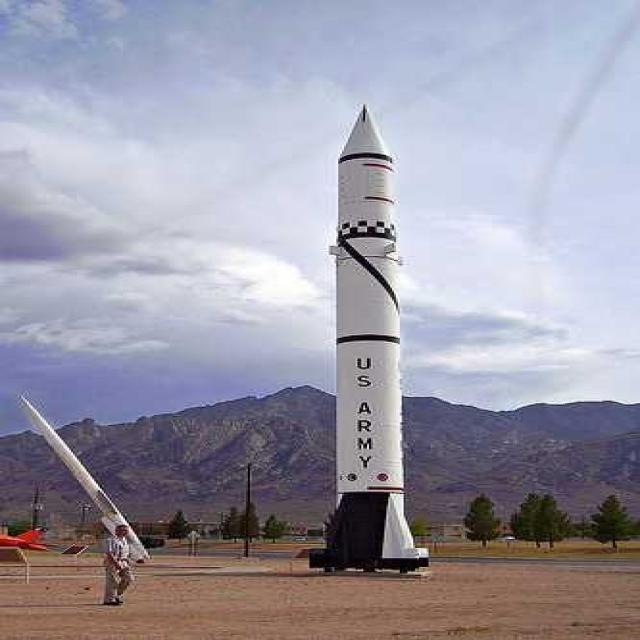missile: (314, 103, 437, 566), (19, 393, 158, 561)
